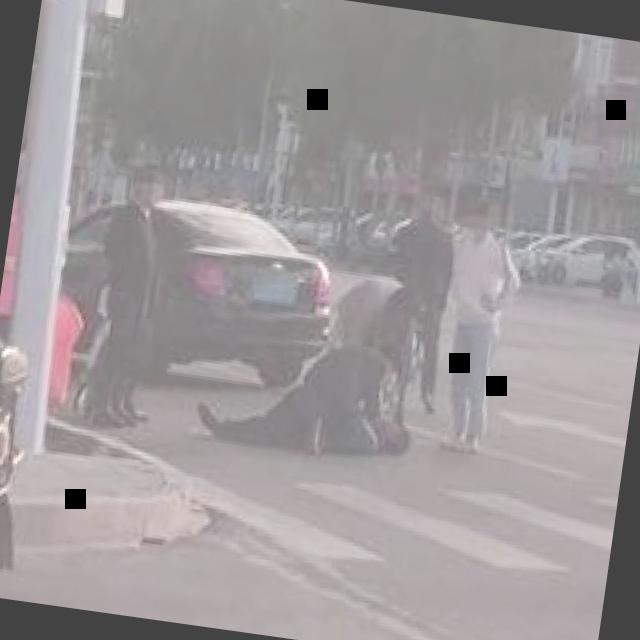Fall-Detected: (193, 365, 424, 470)
